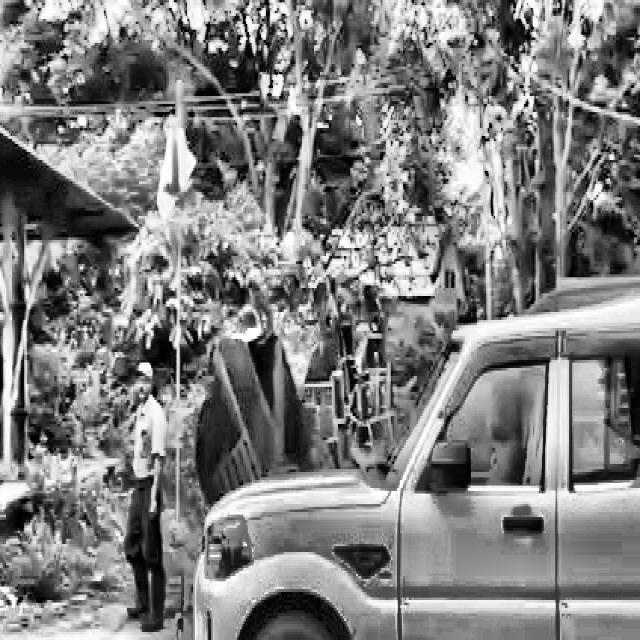light_vehicle: (191, 282, 640, 640)
